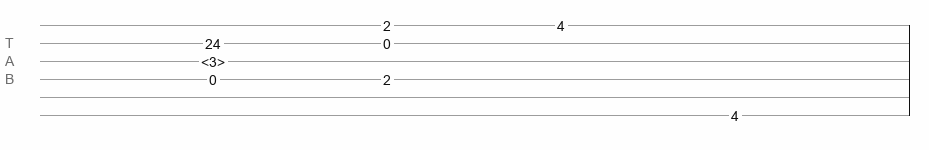0: (209, 72, 217, 82), (383, 36, 391, 46)
2: (383, 72, 391, 82), (383, 18, 391, 28)
24: (205, 36, 221, 46)
4: (557, 18, 565, 28), (731, 108, 739, 118)
harmonic: (201, 54, 225, 64)
